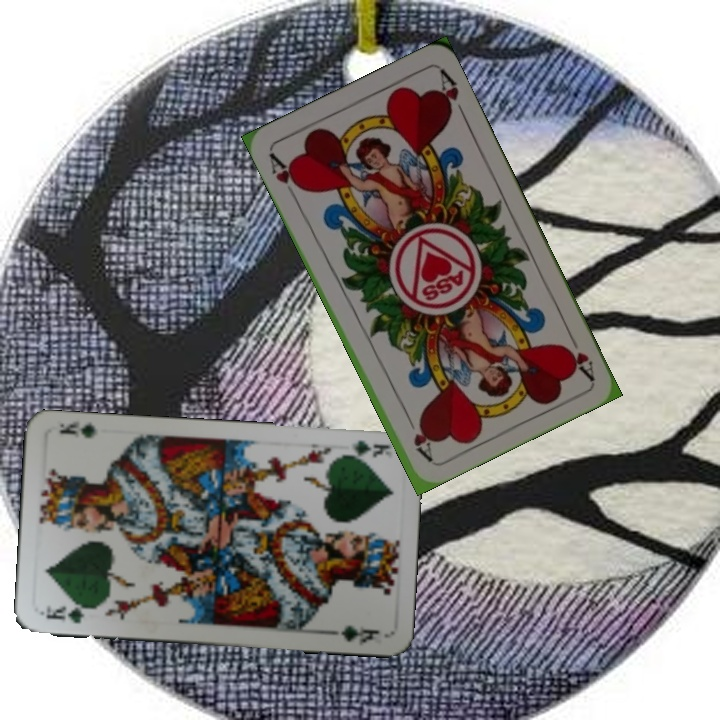GK: (338, 436, 394, 462), (39, 603, 87, 626)
HA: (265, 148, 306, 202), (558, 327, 597, 382)
